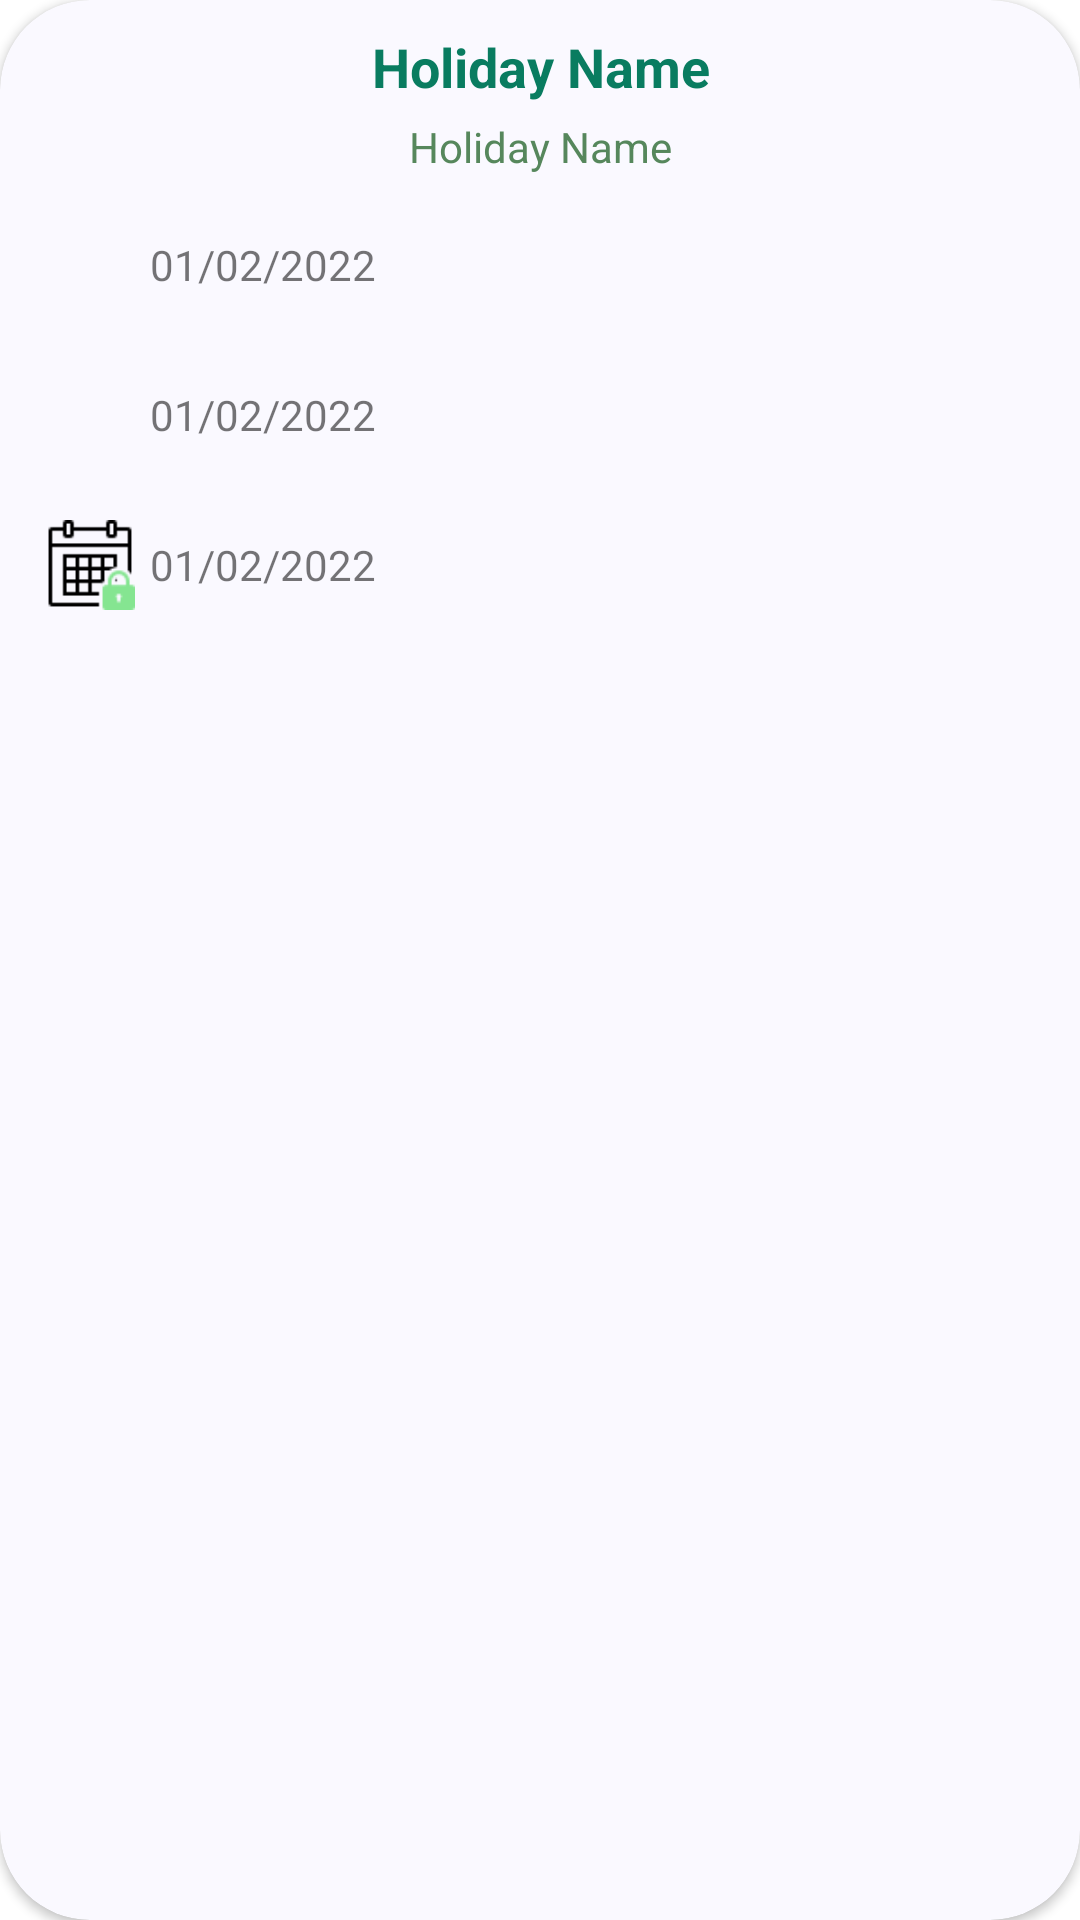

Icons on this 1080w x 1920h Android screen, each with the point to tap as point (x, y):
fixed caldendar: point (91, 565)
